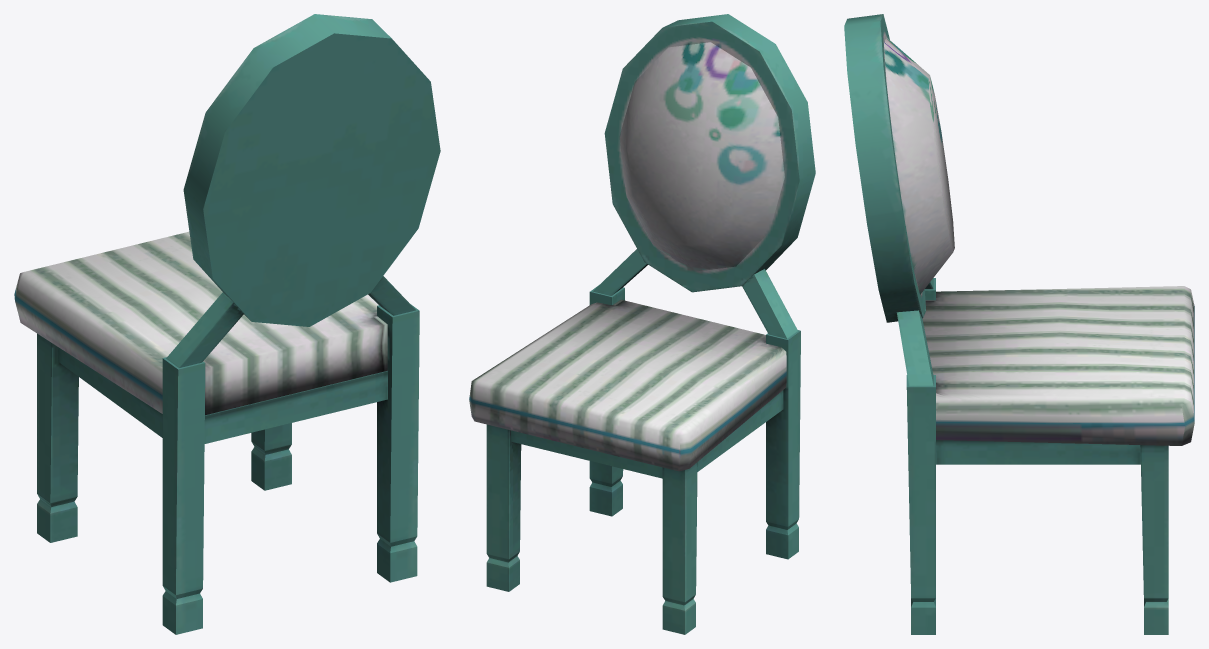
File: furni_0200508_02.FBX
3 renders of one model, left to right at view 1: azimuth 30°, elevation 25°; view 2: azimuth 150°, elevation 25°; view 3: azimuth 270°, elevation 25°, orthographic. The views are drawn at different scales.
Parts seen in each view (by area): view 1: furni_0200508_02; view 2: furni_0200508_02; view 3: furni_0200508_02.
Part boxes in pixels (box(x1,y1,x2,y2)): furni_0200508_02: box(14, 14, 440, 634); furni_0200508_02: box(469, 14, 815, 634); furni_0200508_02: box(844, 14, 1194, 634).
Size of the model in its own units: 49.44 by 106 by 60.22.
Materials: 1 (1 with a texture image).
